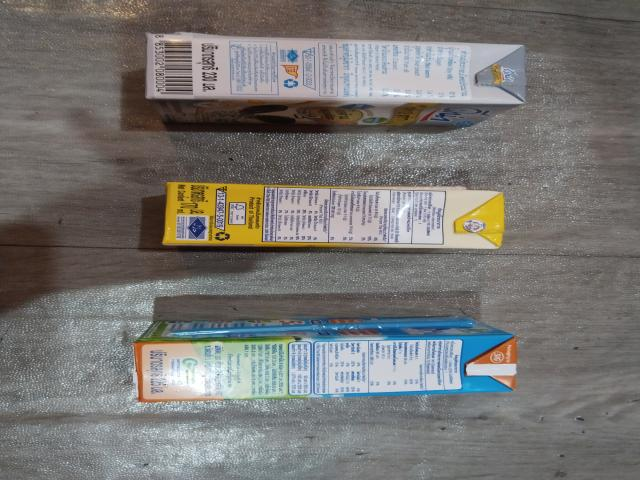drink_box: (134, 27, 534, 130), (132, 314, 540, 406), (159, 177, 522, 260)
